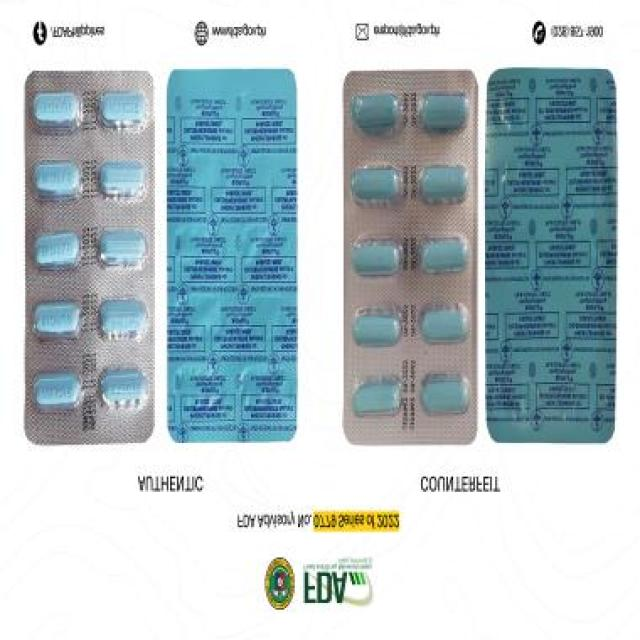Bioflu_Strip: (9, 61, 164, 453), (334, 55, 486, 451)
